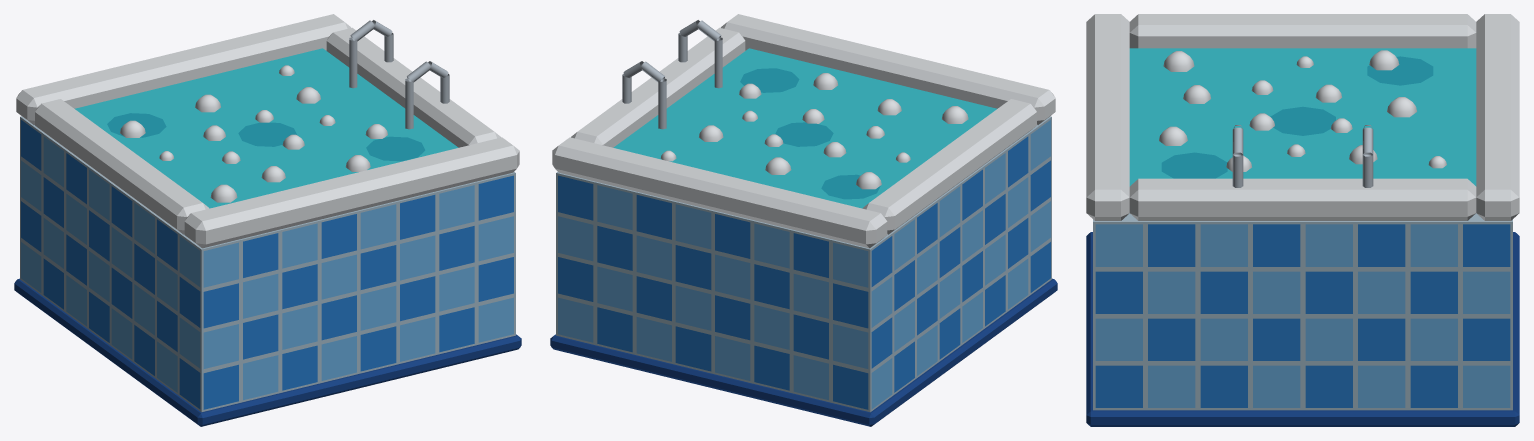
File: aqua-block.glb
3 renders of one model, left to right at view 1: azimuth 30°, elevation 25°; view 2: azimuth 150°, elevation 25°; view 3: azimuth 270°, elevation 25°, orthographic. The views are drawn at different scales.
Visible parts, largest first — view 1: aqua-block; view 2: aqua-block; view 3: aqua-block.
Boxes of the visible parts, left/top/right/bottom form: aqua-block: left=14, top=14, right=521, bottom=426; aqua-block: left=550, top=14, right=1057, bottom=426; aqua-block: left=1086, top=14, right=1519, bottom=426.
Size of the model in its own units: 2 by 1.46 by 2.
